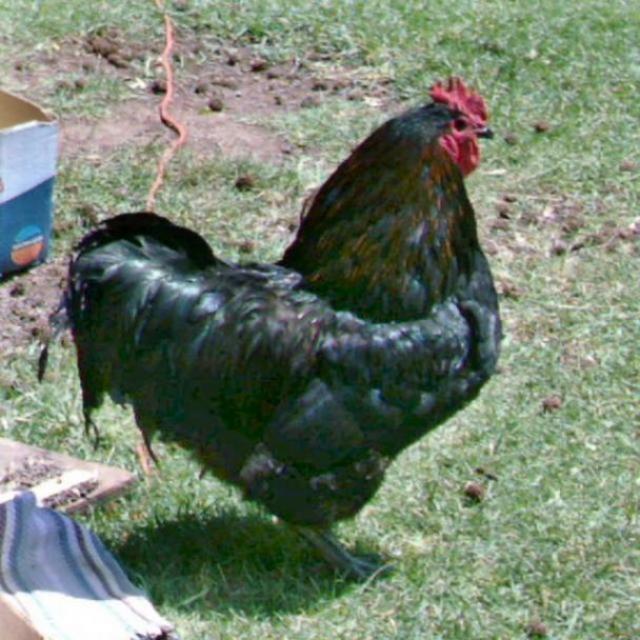Chicken: (113, 56, 511, 509)
